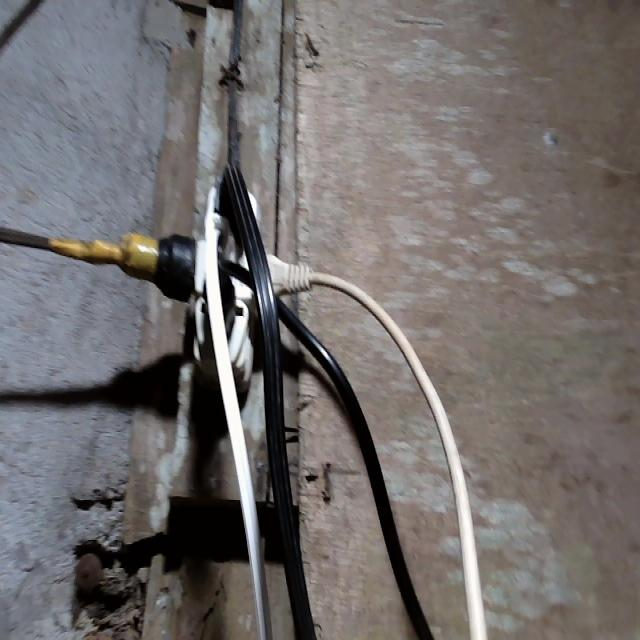-: (156, 172, 301, 384)
